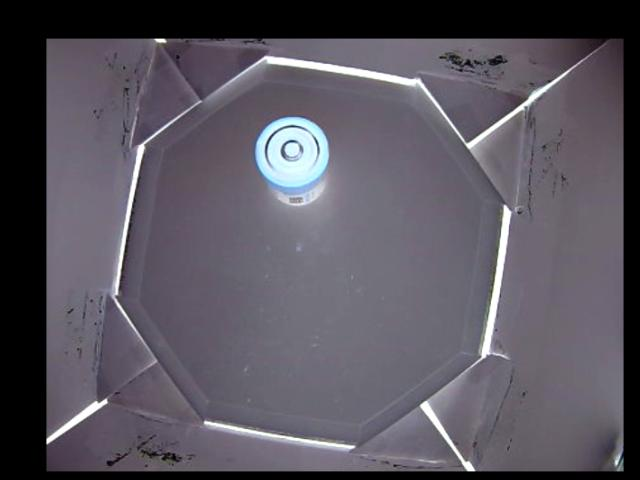Battery: (256, 117, 327, 205)
